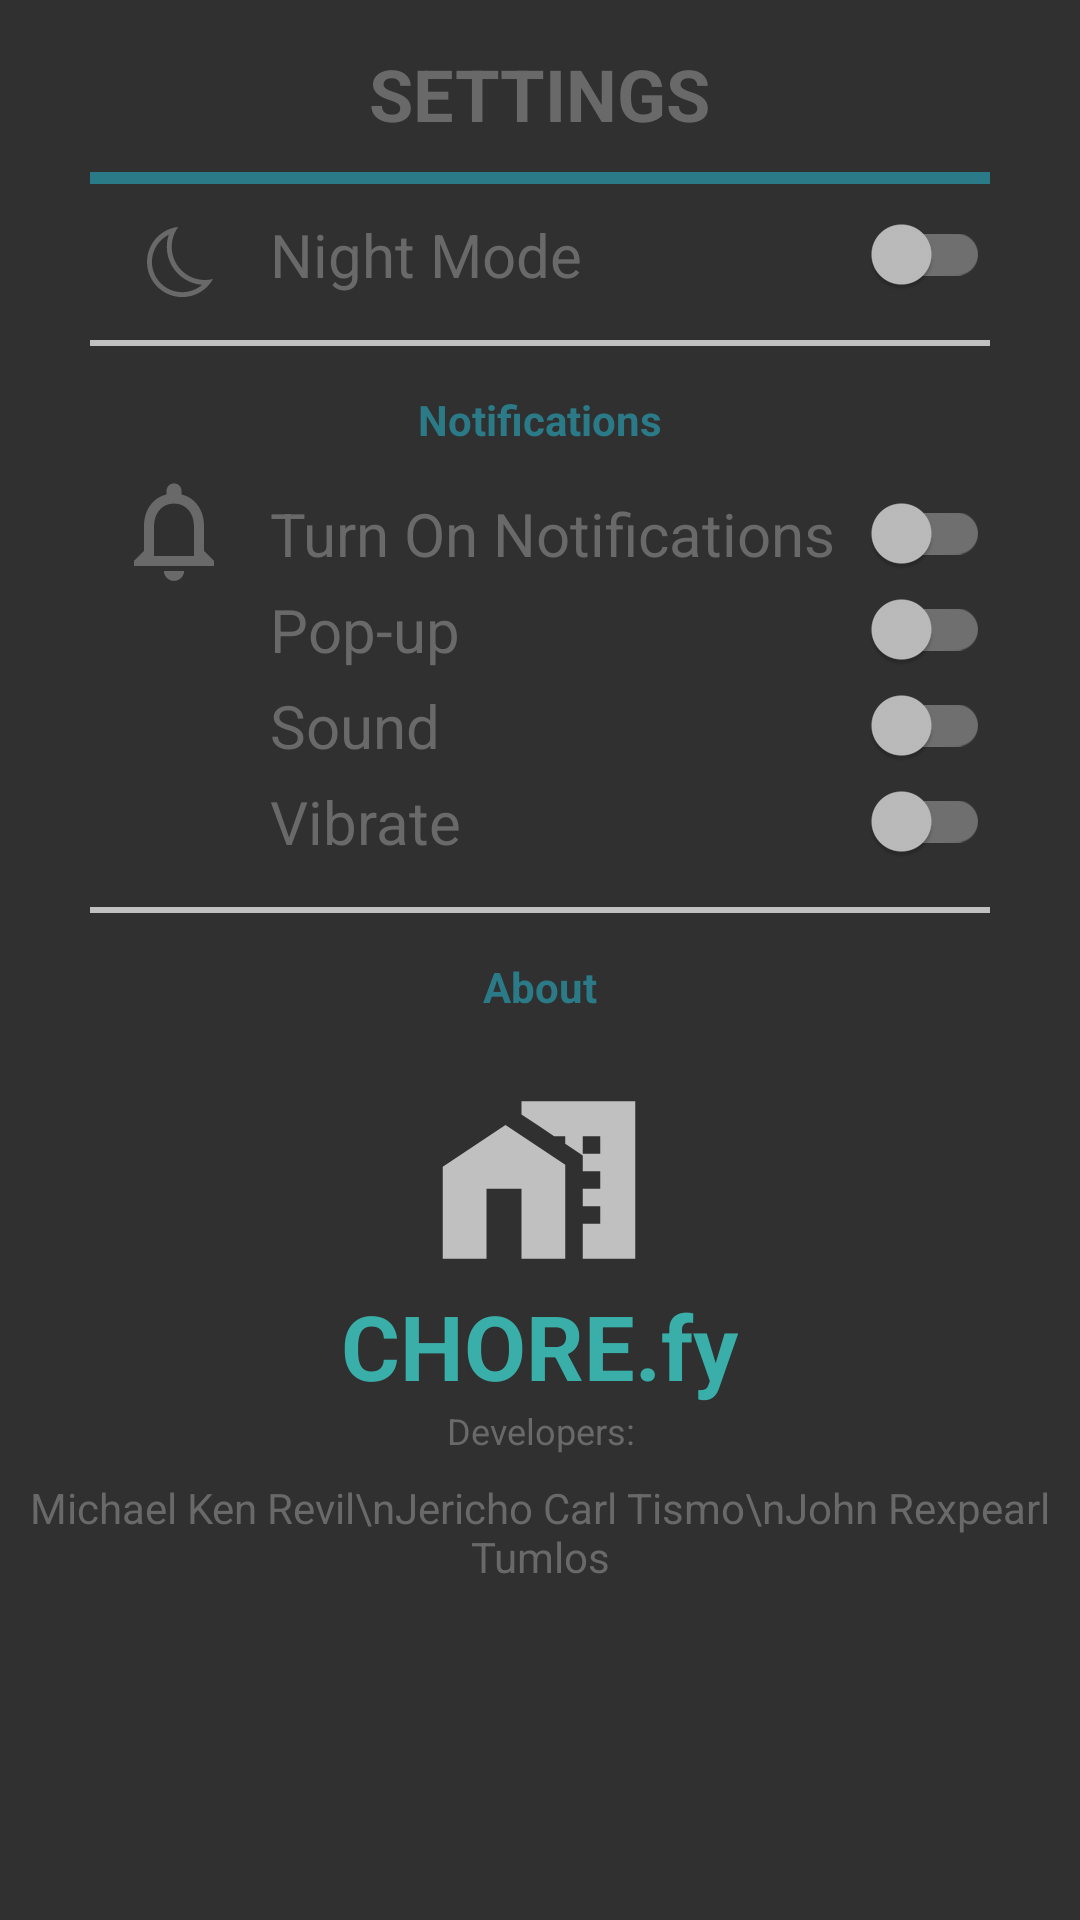

Screen size 1080*1920. Icon name, then its center in pixels as (x,y):
home work: (539,1180)
